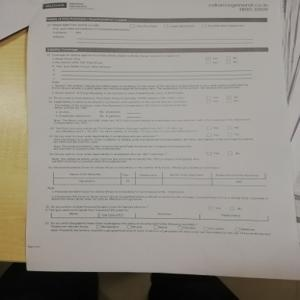image: (43, 1, 67, 10)
table: (47, 167, 269, 188), (49, 210, 271, 221)
text: (48, 53, 267, 161)
